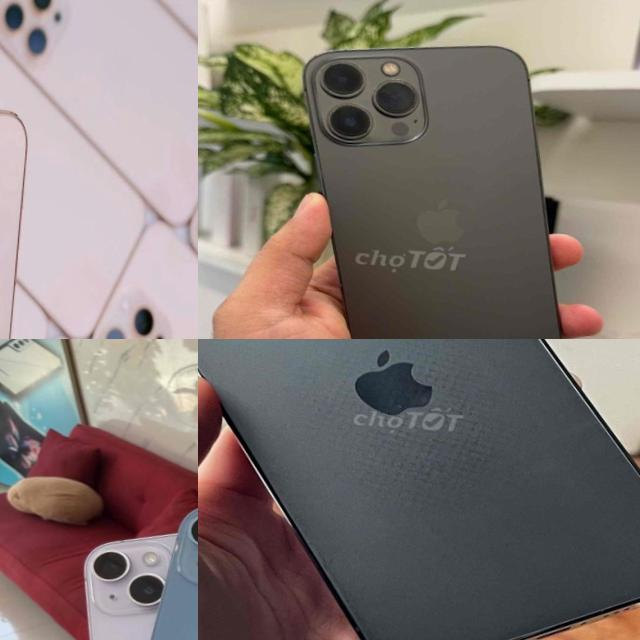gen_12_13: (198, 339, 640, 640), (273, 27, 590, 339)
gen_14: (75, 491, 198, 640)
